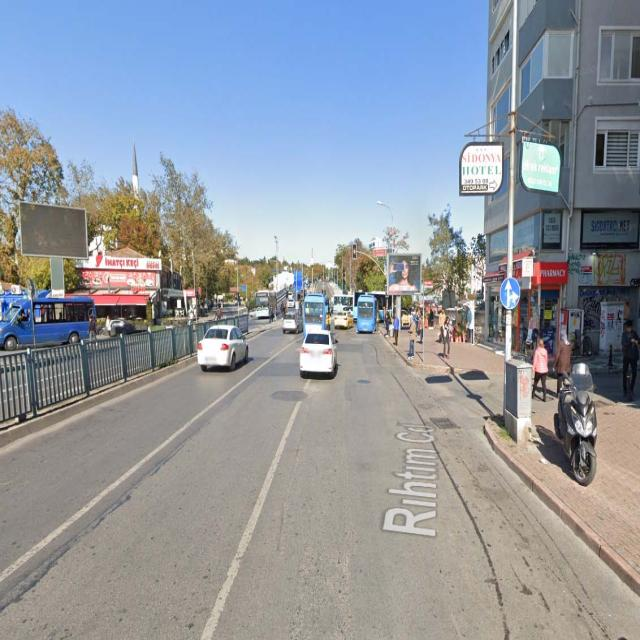ilerisag: (500, 278, 520, 309)
